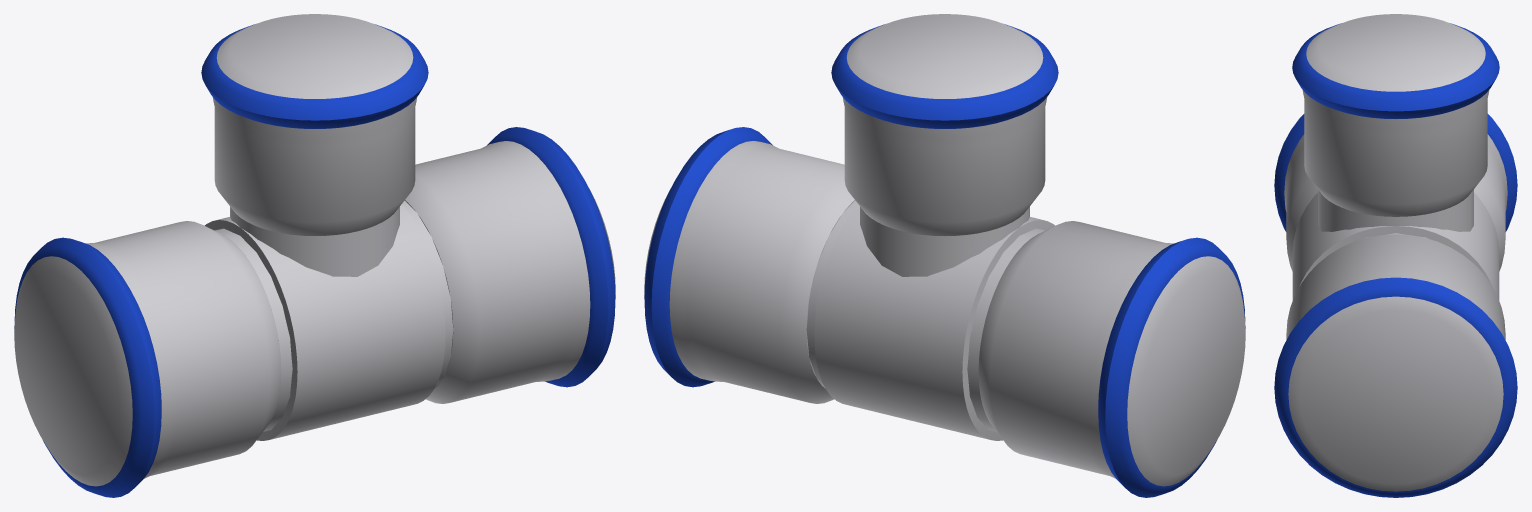
File: fitting_tee_35x28.glb
3 views of the same model, side by side, from view 1: azimuth 30°, elevation 25°; view 2: azimuth 150°, elevation 25°; view 3: azimuth 270°, elevation 25° (orthographic). The views are drawn at different scales.
Visible parts, largest first — view 1: раструб.001, раструб, раструб.002, узел, кольцо пресс.001, кольцо пресс.002, кольцо пресс, корпус.001, корпус; view 2: раструб.001, раструб, раструб.002, узел, кольцо пресс.001, кольцо пресс.002, кольцо пресс, корпус.001, корпус; view 3: раструб, раструб.002, кольцо пресс, кольцо пресс.002, узел, раструб.001, корпус.001, кольцо пресс.001.
Boxes of the visible parts, x1=… form: раструб.001: x1=14, y1=221, x2=281, y2=486; раструб: x1=404, y1=141, x2=615, y2=403; раструб.002: x1=212, y1=14, x2=417, y2=235; узел: x1=204, y1=204, x2=445, y2=440; кольцо пресс.001: x1=14, y1=237, x2=161, y2=497; кольцо пресс.002: x1=201, y1=24, x2=428, y2=128; кольцо пресс: x1=487, y1=127, x2=615, y2=387; корпус.001: x1=230, y1=206, x2=399, y2=276; корпус: x1=214, y1=200, x2=453, y2=431; раструб.001: x1=978, y1=221, x2=1245, y2=486; раструб: x1=644, y1=141, x2=855, y2=403; раструб.002: x1=842, y1=14, x2=1047, y2=235; узел: x1=814, y1=204, x2=1055, y2=440; кольцо пресс.001: x1=1098, y1=237, x2=1245, y2=497; кольцо пресс.002: x1=831, y1=24, x2=1058, y2=128; кольцо пресс: x1=644, y1=127, x2=772, y2=387; корпус.001: x1=860, y1=206, x2=1029, y2=276; корпус: x1=806, y1=200, x2=1045, y2=431; раструб: x1=1286, y1=234, x2=1505, y2=491; раструб.002: x1=1302, y1=14, x2=1489, y2=216; кольцо пресс: x1=1274, y1=277, x2=1517, y2=497; кольцо пресс.002: x1=1292, y1=23, x2=1499, y2=118; узел: x1=1292, y1=193, x2=1499, y2=300; раструб.001: x1=1284, y1=134, x2=1507, y2=271; корпус.001: x1=1318, y1=189, x2=1473, y2=231; кольцо пресс.001: x1=1274, y1=114, x2=1517, y2=231.
Size of the model in its own units: 0.104 by 0.0766 by 0.0483.
